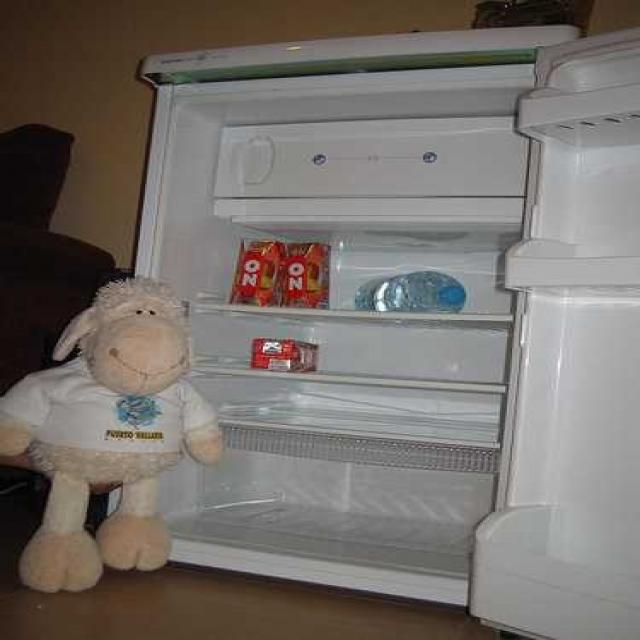refrigerator: (125, 57, 640, 583)
